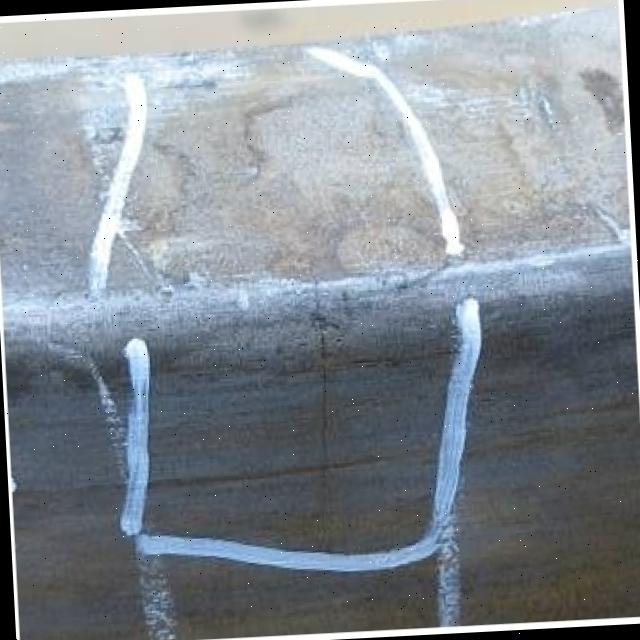Brake_Thermal_Cracks: (311, 260, 337, 507)
